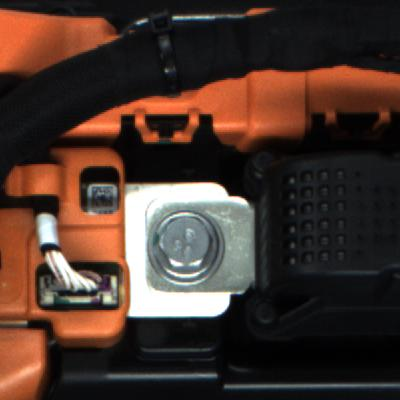nut_b: (143, 208, 229, 291)
